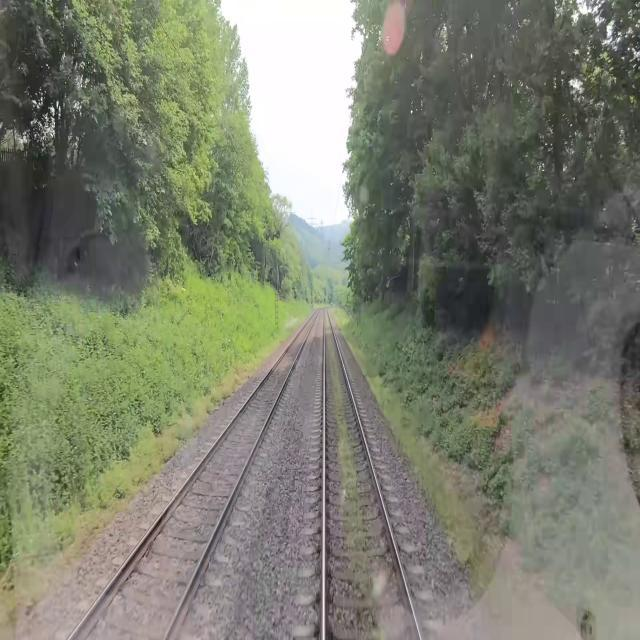Plant: (327, 336, 377, 600)
